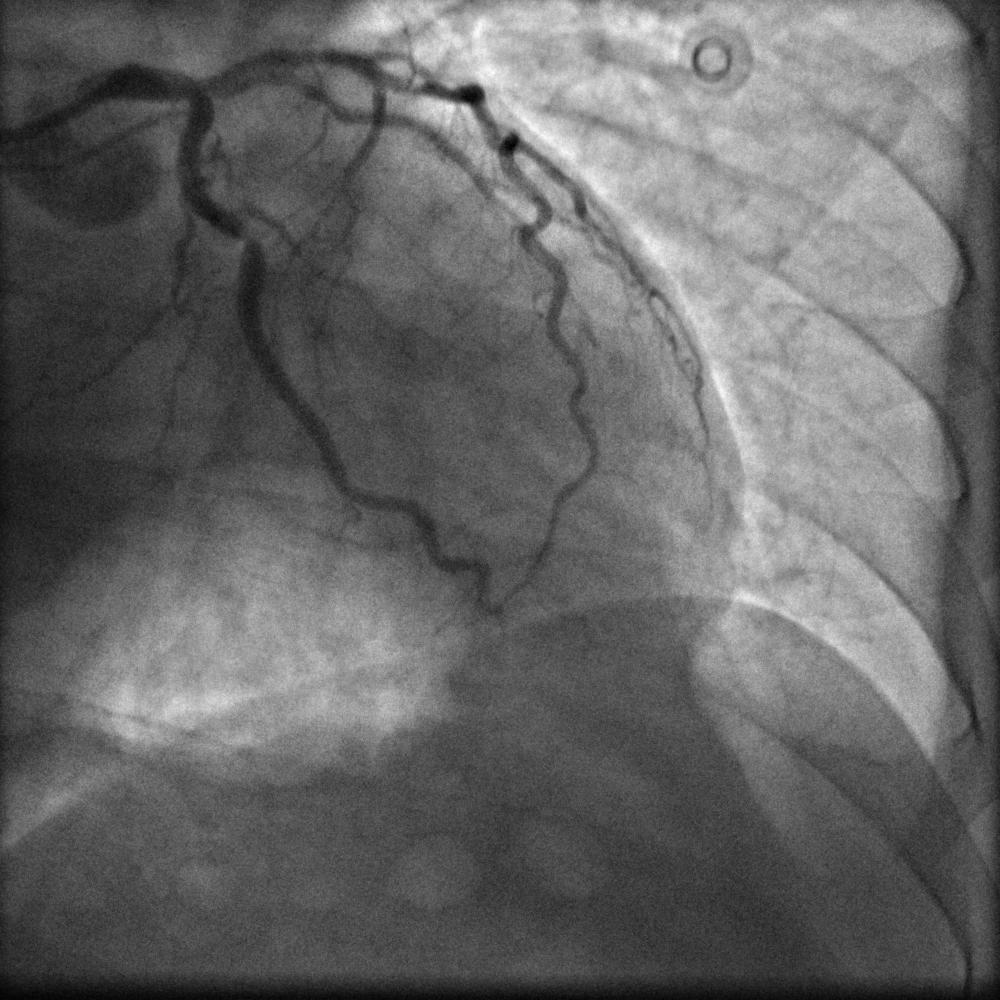Stenosis: (229, 220, 259, 248)
